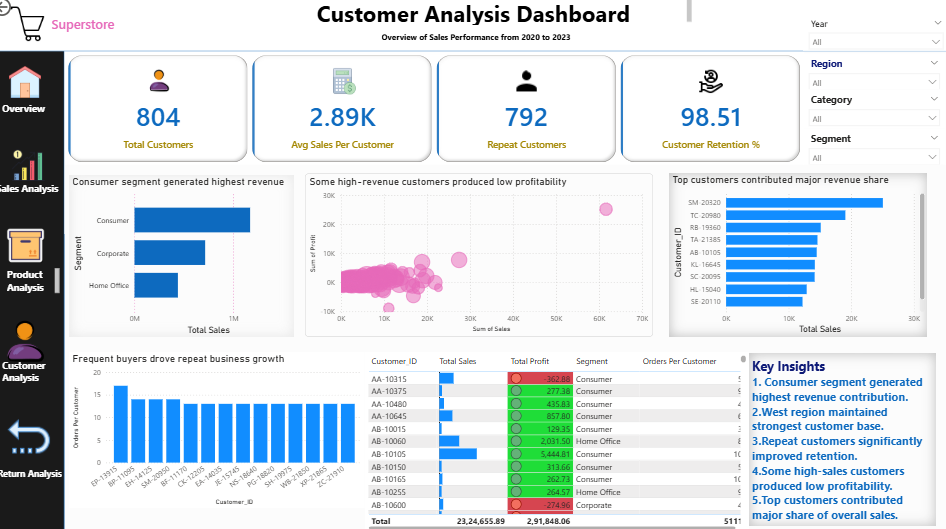

Layout of this report page (visuals, bound fields, positions):
{"tool":"powerbi","page":{"name":"Customer Analysis","canvas":[1600,900],"ordinal":3},"visuals":[{"type":"shape","box":[0,0,124,900],"z":0},{"type":"shape","box":[0,0,1600,94],"z":1000},{"type":"clusteredBarChart","title":"Top customers contributed major revenue share","fields":{"Y":["Orders.Total Sales"],"Category":["Orders.Customer_ID"]},"box":[1132,298,430,272],"z":2000},{"type":"barChart","title":"Consumer segment generated highest revenue","fields":{"Y":["Orders.Total Sales"],"Category":["Orders.Segment"]},"box":[132,300,374,270],"z":3000},{"type":"slicer","fields":{"Values":["Orders.Region"]},"box":[1356,98,238,60],"z":4000},{"type":"slicer","fields":{"Values":["Orders.Category"]},"box":[1356,158,238,64],"z":5000},{"type":"slicer","fields":{"Values":["Orders.Segment"]},"box":[1356,222,238,60],"z":6000},{"type":"cardVisual","fields":{"Data":["Orders.Total Customers","Orders.Avg Sales Per Customer","Orders.Repeat Customers","Orders.Customer Retention %"]},"box":[124,94,1232,188],"z":7000},{"type":"textbox","box":[540,0,634,54],"z":8000},{"type":"textbox","box":[648,54,412,78],"z":9000},{"type":"image","box":[28,8,70,78],"z":10000},{"type":"textbox","box":[98,28,220,110],"z":11000},{"type":"image","box":[26,98,66,94],"z":12000},{"type":"textbox","box":[16,172,232,322],"z":13000},{"type":"image","box":[22,228,82,116],"z":14000},{"type":"image","box":[20,368,78,100],"z":15000},{"type":"image","box":[8,518,96,120],"z":16000},{"type":"image","box":[22,690,84,92],"z":17000},{"type":"textbox","box":[4,306,278,76],"z":18000},{"type":"textbox","box":[22,450,98,52],"z":19000},{"type":"textbox","box":[16,600,98,76],"z":20000},{"type":"textbox","box":[8,782,162,68],"z":21000},{"type":"textbox","box":[1264,598,312,288],"z":22000},{"type":"scatterChart","title":"Some high-revenue customers produced low profitability","fields":{"Category":["Orders.Product_Name"],"X":["Sum(Orders.Sales)"],"Y":["Sum(Orders.Profit)"],"Size":["Count(Orders.Quantity)"]},"box":[526,298,580,272],"z":23000},{"type":"tableEx","fields":{"Values":["Orders.Customer_ID","Orders.Total Sales","Orders.Total Profit","Orders.Segment","Orders.Orders Per Customer"]},"box":[624,596,640,304],"z":24000},{"type":"actionButton","box":[0,0,100,40],"z":25000},{"type":"columnChart","title":"Frequent buyers drove repeat business growth","fields":{"Category":["Orders.Customer_ID"],"Y":["Orders.Orders Per Customer"]},"box":[132,596,492,260],"z":26000},{"type":"slicer","fields":{"Values":["DateTable.Year"]},"box":[1356,36,244,58],"z":27000}]}

Visuals, with their boxes on the page's 1600x900 design canvas (x1, y1, x2, y2). These are canvas units, not pixel positions in the 946x529 screenshot, which may show the page scaled, cropped or inside an application window:
shape: bbox=[0, 0, 124, 900]
shape: bbox=[0, 0, 1600, 94]
"Top customers contributed major revenue share" clusteredBarChart: bbox=[1132, 298, 1562, 570]
"Consumer segment generated highest revenue" barChart: bbox=[132, 300, 506, 570]
slicer - Orders.Region: bbox=[1356, 98, 1594, 158]
slicer - Orders.Category: bbox=[1356, 158, 1594, 222]
slicer - Orders.Segment: bbox=[1356, 222, 1594, 282]
cardVisual - Orders.Total Customers x Orders.Avg Sales Per Customer: bbox=[124, 94, 1356, 282]
textbox: bbox=[540, 0, 1174, 54]
textbox: bbox=[648, 54, 1060, 132]
image: bbox=[28, 8, 98, 86]
textbox: bbox=[98, 28, 318, 138]
image: bbox=[26, 98, 92, 192]
textbox: bbox=[16, 172, 248, 494]
image: bbox=[22, 228, 104, 344]
image: bbox=[20, 368, 98, 468]
image: bbox=[8, 518, 104, 638]
image: bbox=[22, 690, 106, 782]
textbox: bbox=[4, 306, 282, 382]
textbox: bbox=[22, 450, 120, 502]
textbox: bbox=[16, 600, 114, 676]
textbox: bbox=[8, 782, 170, 850]
textbox: bbox=[1264, 598, 1576, 886]
"Some high-revenue customers produced low profitability" scatterChart: bbox=[526, 298, 1106, 570]
tableEx - Orders.Customer_ID x Orders.Total Sales: bbox=[624, 596, 1264, 900]
actionButton: bbox=[0, 0, 100, 40]
"Frequent buyers drove repeat business growth" columnChart: bbox=[132, 596, 624, 856]
slicer - DateTable.Year: bbox=[1356, 36, 1600, 94]
